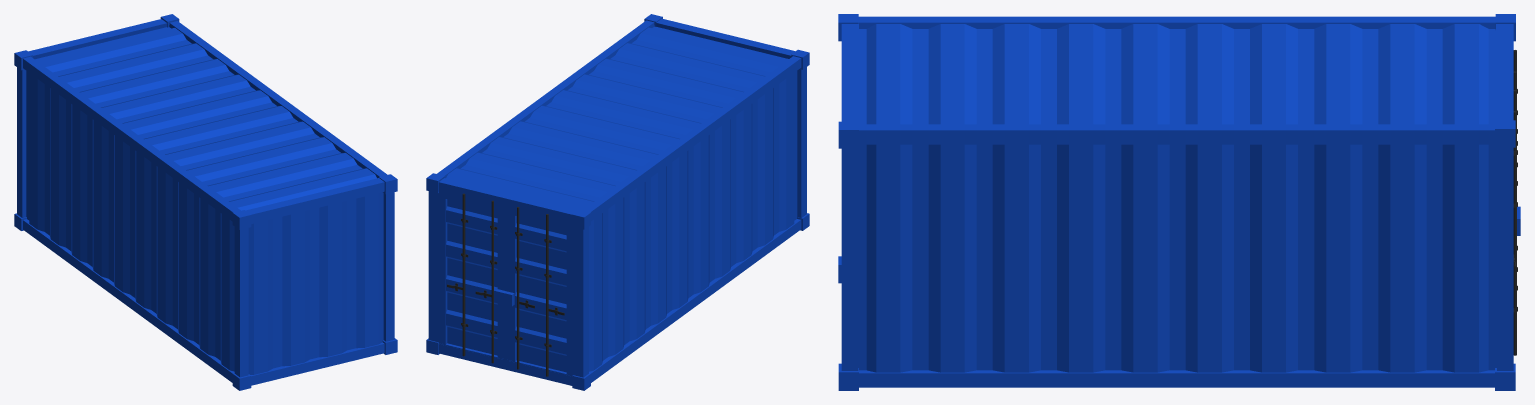
File: Contener.fbx
3 views of the same model, side by side, from view 1: azimuth 30°, elevation 25°; view 2: azimuth 150°, elevation 25°; view 3: azimuth 270°, elevation 25° (orthographic). The views are drawn at different scales.
Visible parts, largest first — view 1: Contener; view 2: Contener; view 3: Contener.
Boxes of the visible parts, x1,y1,x2,y2 form: Contener: (14, 14, 397, 390); Contener: (426, 14, 809, 390); Contener: (838, 14, 1520, 390).
Bounding box in the file's own units: 58.42 × 61.4 × 145.
